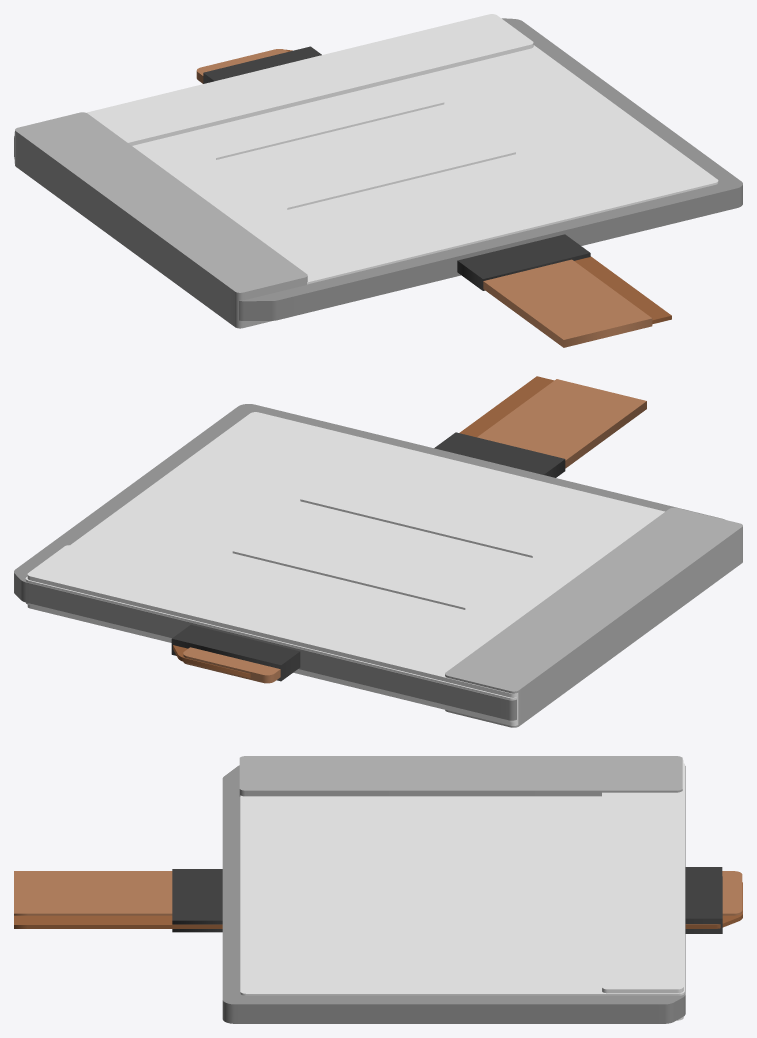
The model's file is emoji_u1faa7.glb.
3 views of the same model, one above another, from view 1: azimuth 30°, elevation 25°; view 2: azimuth 150°, elevation 25°; view 3: azimuth 270°, elevation 25° (orthographic). The views are drawn at different scales.
Parts seen in each view (by area): view 1: emoji_u1faa7; view 2: emoji_u1faa7; view 3: emoji_u1faa7.
Boxes of the visible parts, x1,y1,x2,y2 form: emoji_u1faa7: (14,14,742,347); emoji_u1faa7: (14,376,742,727); emoji_u1faa7: (14,756,742,1023).
Size of the model in its own units: 0.0265 by 0.0018 by 0.0339.
